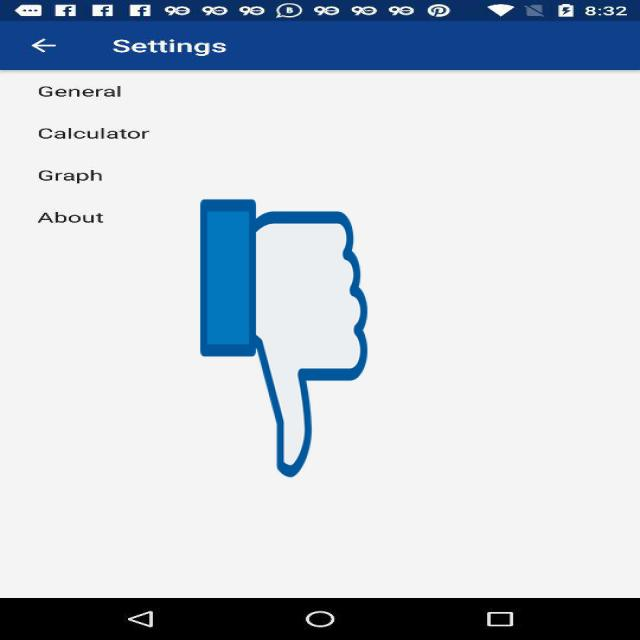obstruction: (200, 194, 368, 484)
